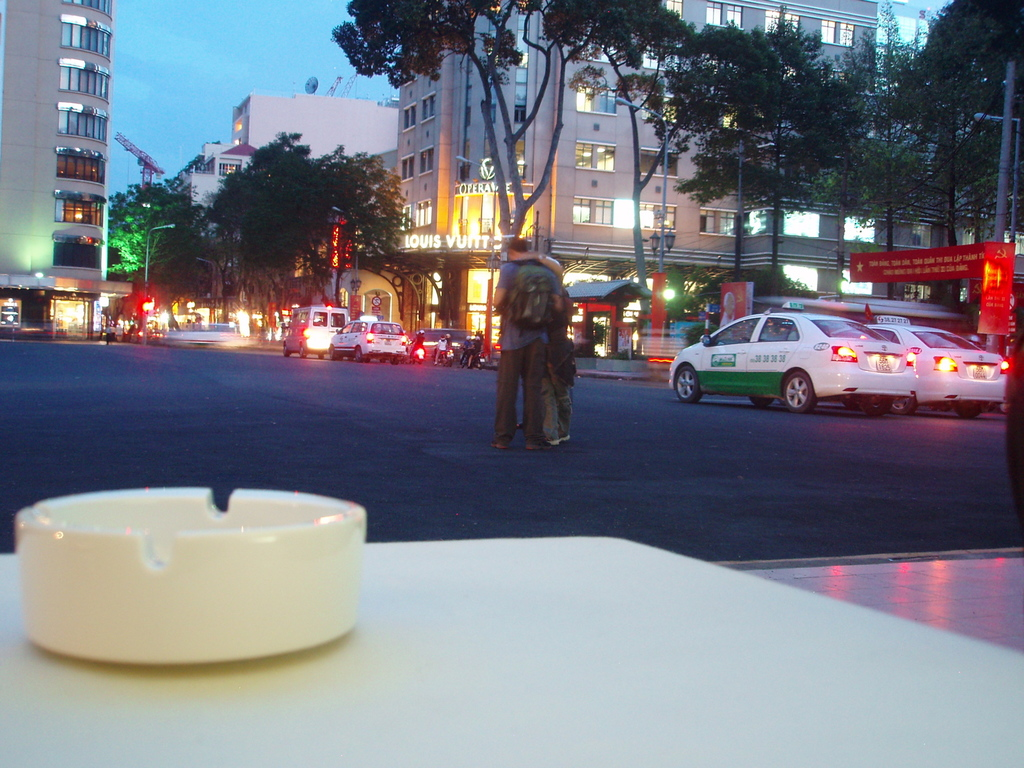Car: (653, 298, 992, 417), (862, 320, 1020, 410), (328, 318, 408, 360), (401, 328, 461, 360)
